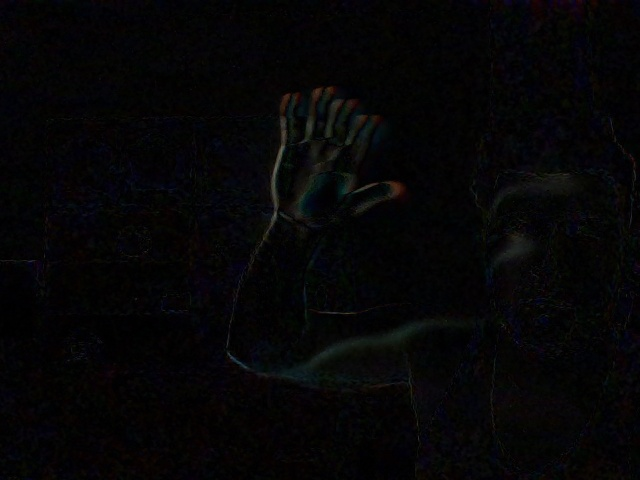arm_fo: (225, 72, 377, 337)
